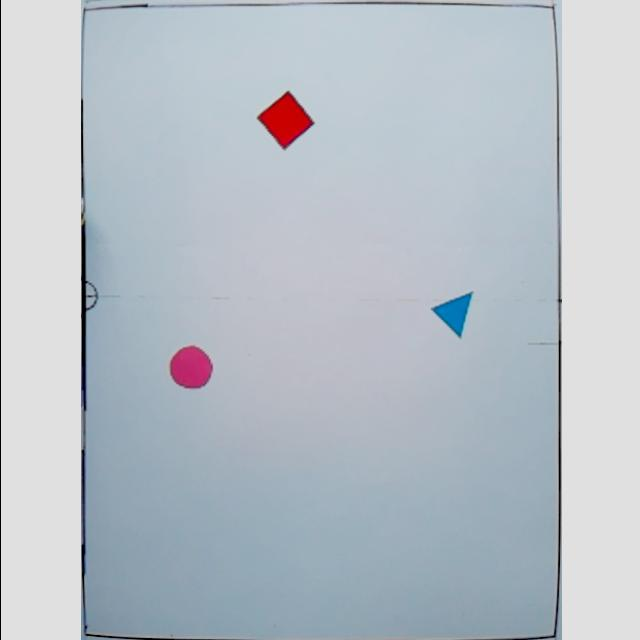blueTriangle: (428, 290, 474, 338)
pinkCircle: (165, 344, 213, 391)
redSquare: (252, 90, 316, 150)
